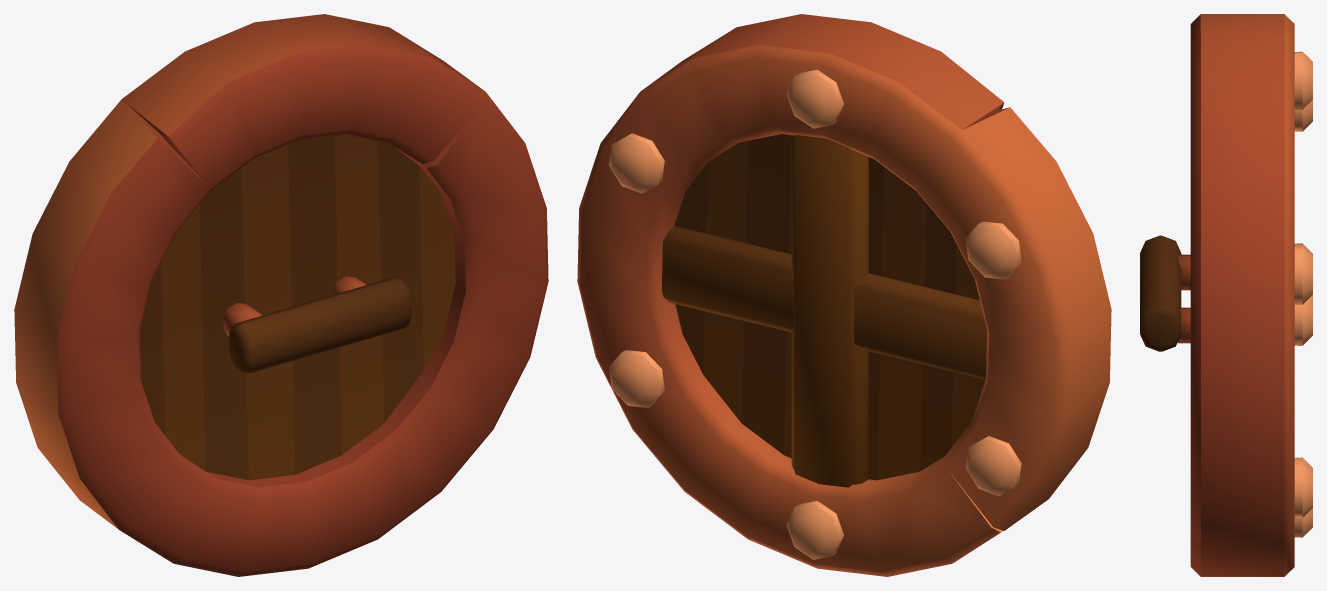
File: Shield_V2_1.fbx
3 views of the same model, side by side, from view 1: azimuth 30°, elevation 25°; view 2: azimuth 150°, elevation 25°; view 3: azimuth 270°, elevation 25° (orthographic).
Parts seen in each view (by area): view 1: Shield_V2_1; view 2: Shield_V2_1; view 3: Shield_V2_1.
Boxes of the visible parts, x1,y1,x2,y2 form: Shield_V2_1: (14,14,548,576); Shield_V2_1: (577,14,1111,576); Shield_V2_1: (1140,14,1312,576).
Size of the model in its own units: 0.4452 by 0.4482 by 0.1366.
